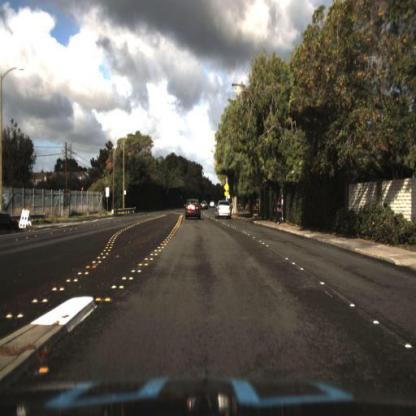car: (182, 196, 205, 225), (215, 199, 234, 223)
pedestrian: (274, 190, 285, 230)
